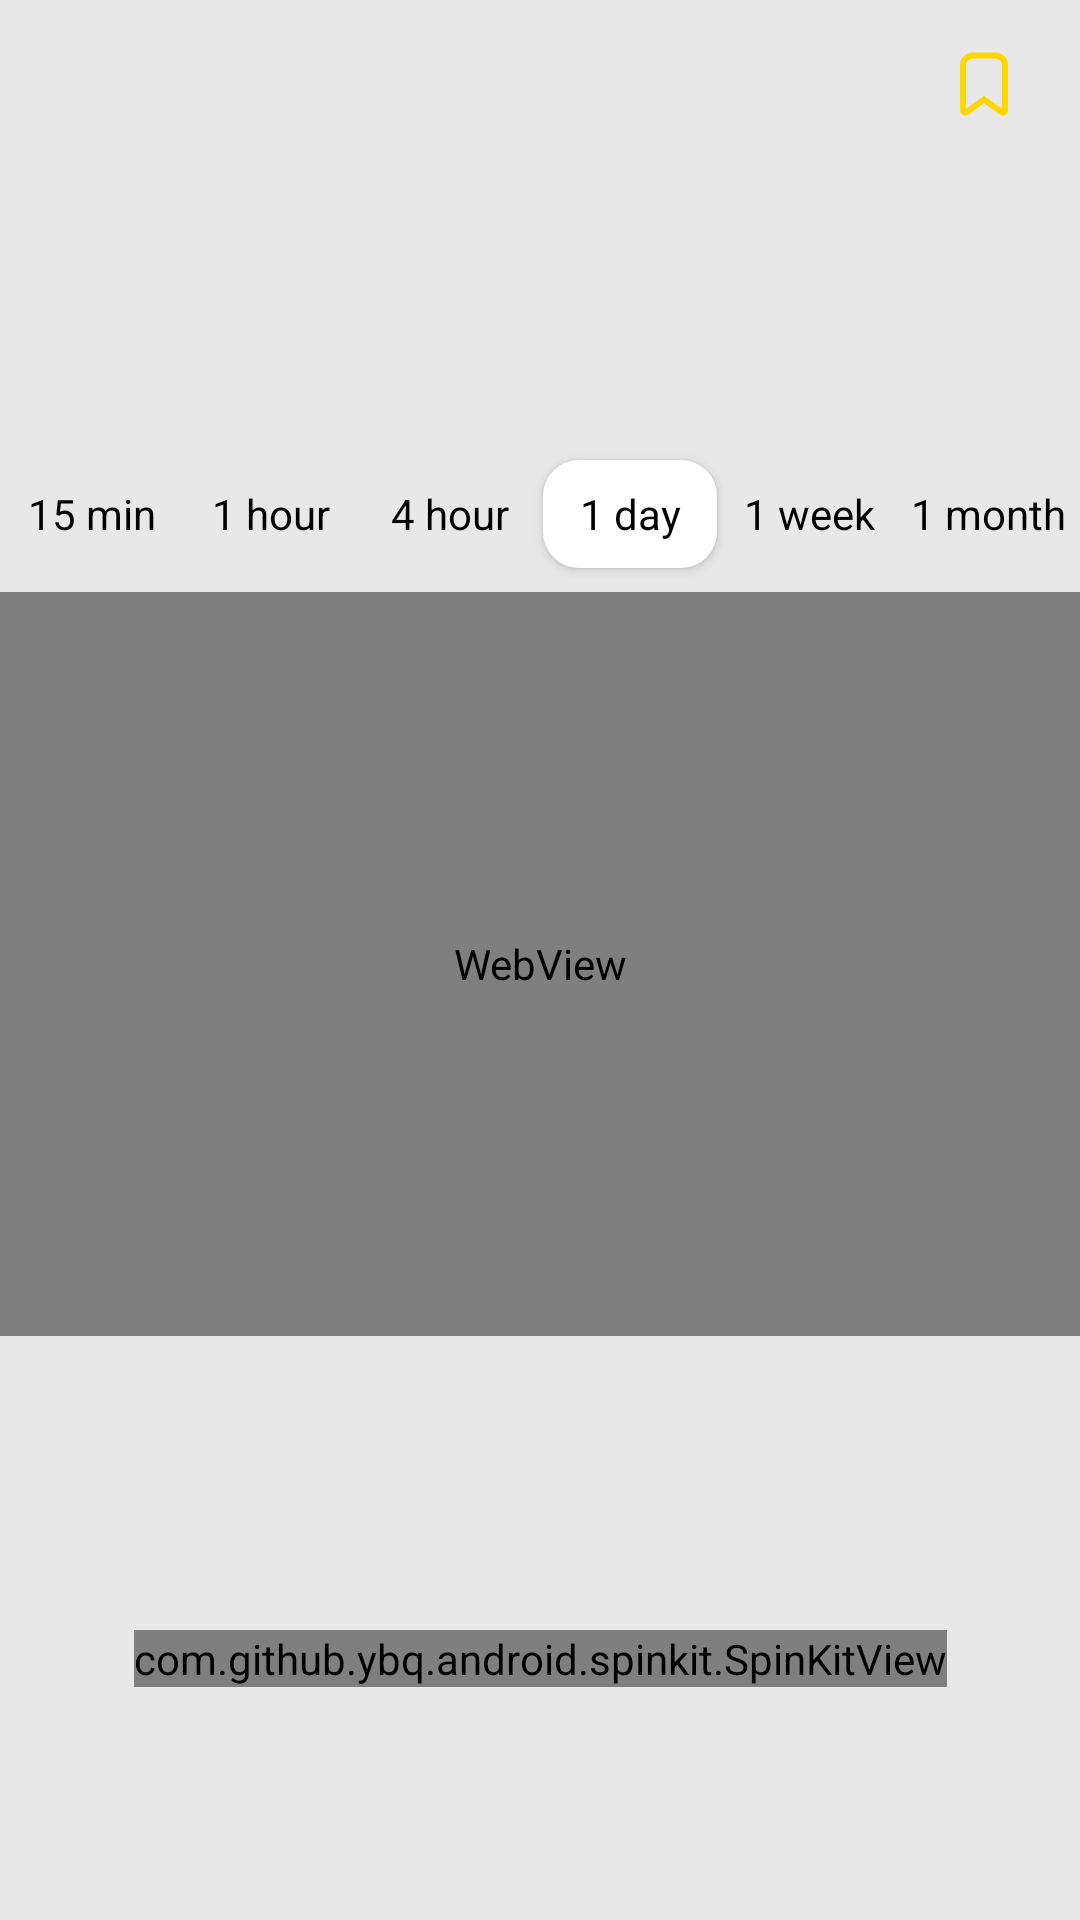

Where icons sit on this 1080 × 1920 app screen, as (x1, y1, x2, y2):
bookmark: (960, 52, 1008, 116)
